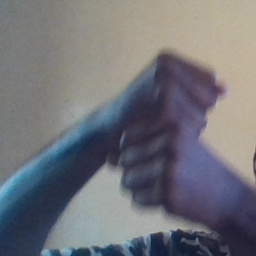G: (111, 45, 226, 214)
